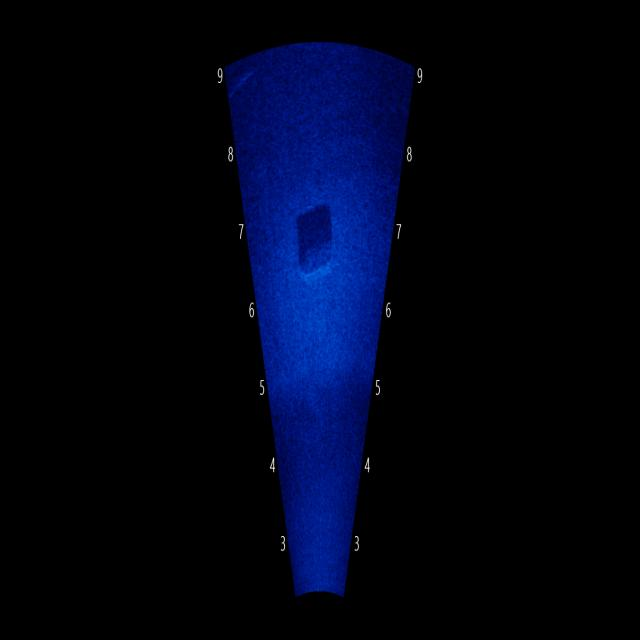square: (286, 176, 346, 294)
